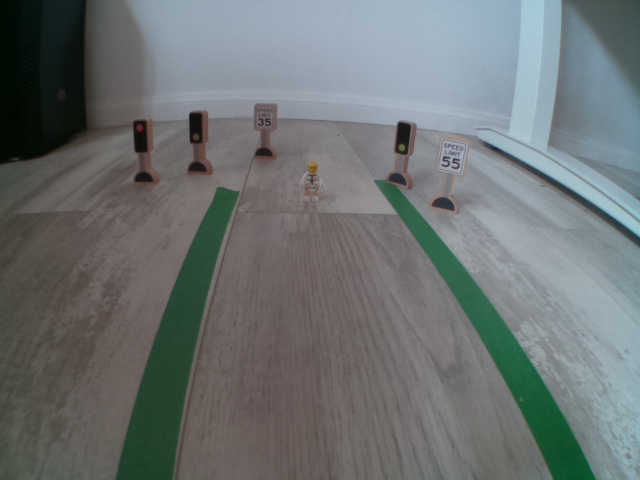Green Traffic Light: (394, 120, 416, 162), (186, 111, 206, 145)
Red Traffic Light: (129, 119, 155, 156)
Speed Limit 35: (252, 104, 276, 132)
Speed Limit 55: (436, 137, 469, 179)
person: (298, 157, 325, 202)
